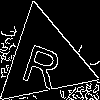R: (19, 35, 67, 90)
